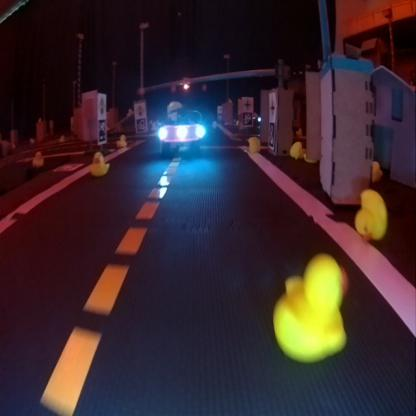Duckie: (273, 253, 342, 346), (354, 191, 384, 241), (90, 152, 108, 170), (290, 142, 303, 159), (249, 136, 260, 152), (31, 151, 43, 165), (117, 135, 126, 146)
Duckiebot: (159, 110, 205, 154)
QR code: (97, 119, 106, 142), (135, 118, 146, 132)
